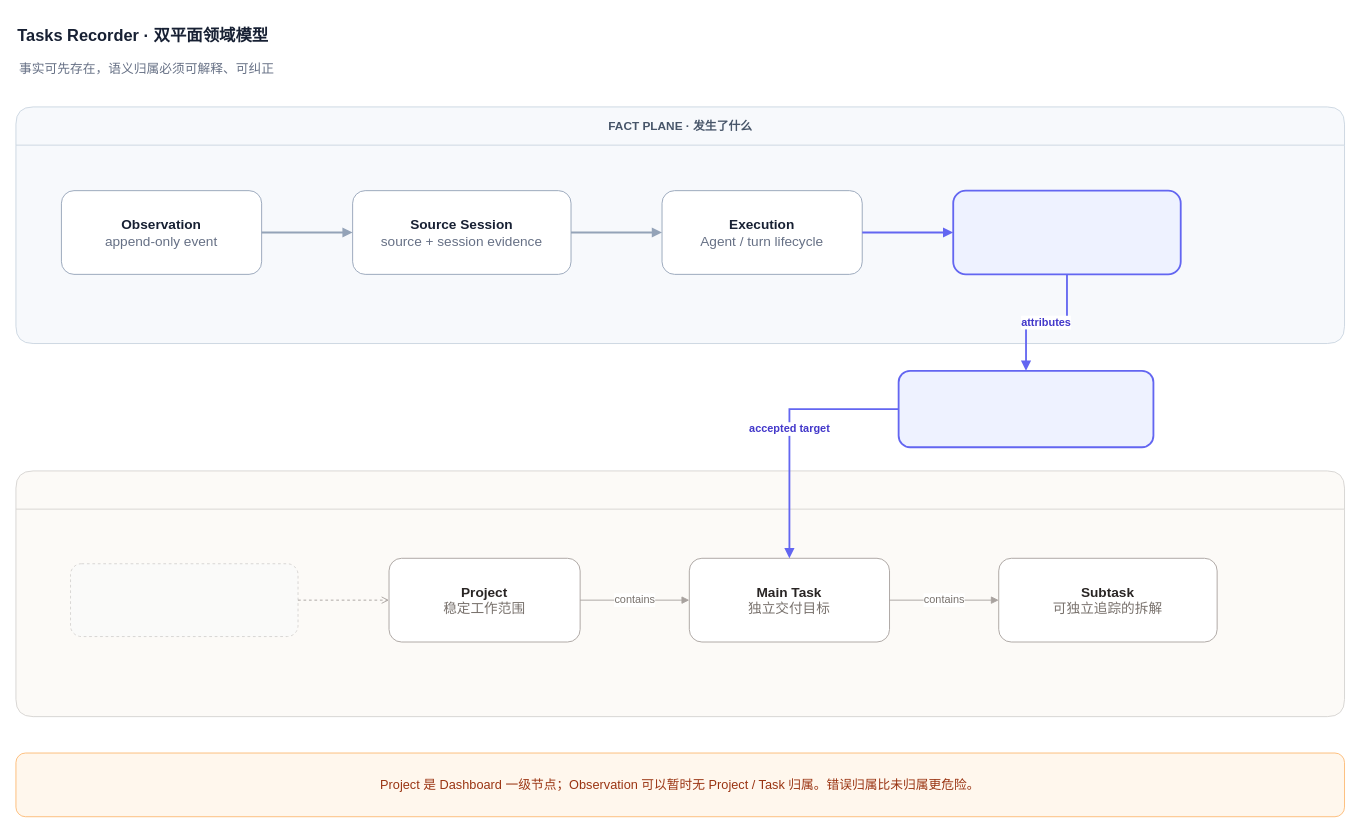
This 1360x833 diagram has some shape labels left out. The shapes that lost their labels are listed below. From the top down, each one's box as (x1, y1, x2, y2) in pixels, then its label:
(952, 189, 1181, 275): Work Segment 连续推进同一目标
(897, 369, 1154, 448): Attribution provenance · confidence · rationale
(70, 563, 298, 637): Project Location worktree / workspace / git common dir
(15, 470, 1345, 717): SEMANTIC PLANE · 用户要完成什么
